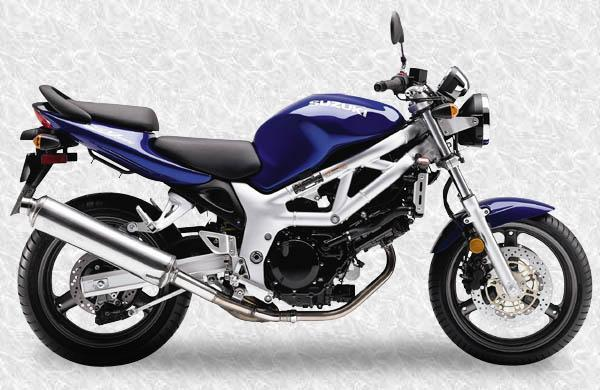motorcycle: (1, 6, 600, 373)
